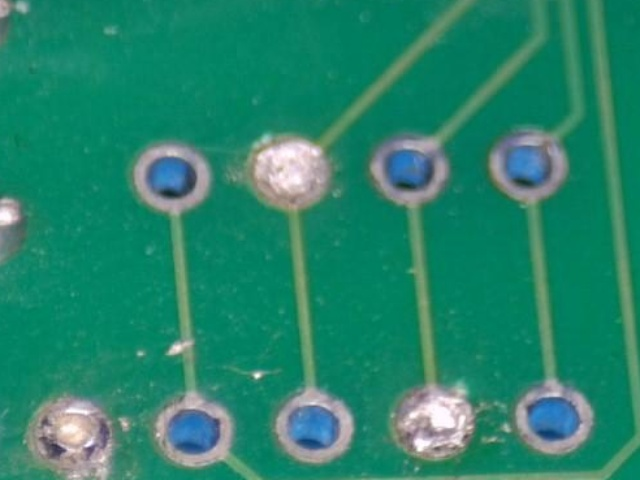pcb_defect: (395, 386, 474, 459), (255, 139, 332, 204), (35, 400, 111, 465)
